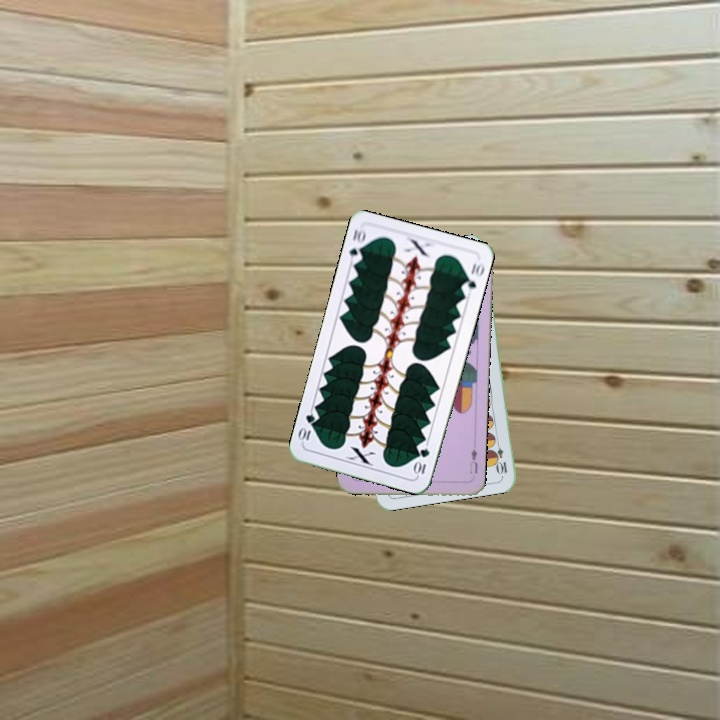E10: (491, 436, 510, 477)
EU: (465, 444, 480, 476)
G10: (345, 224, 368, 266), (410, 444, 432, 478)
